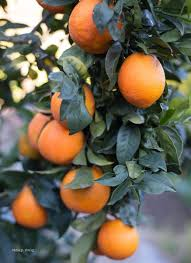orange: (70, 2, 126, 52), (116, 52, 165, 107), (59, 167, 114, 212), (40, 122, 87, 167), (101, 221, 144, 257)
